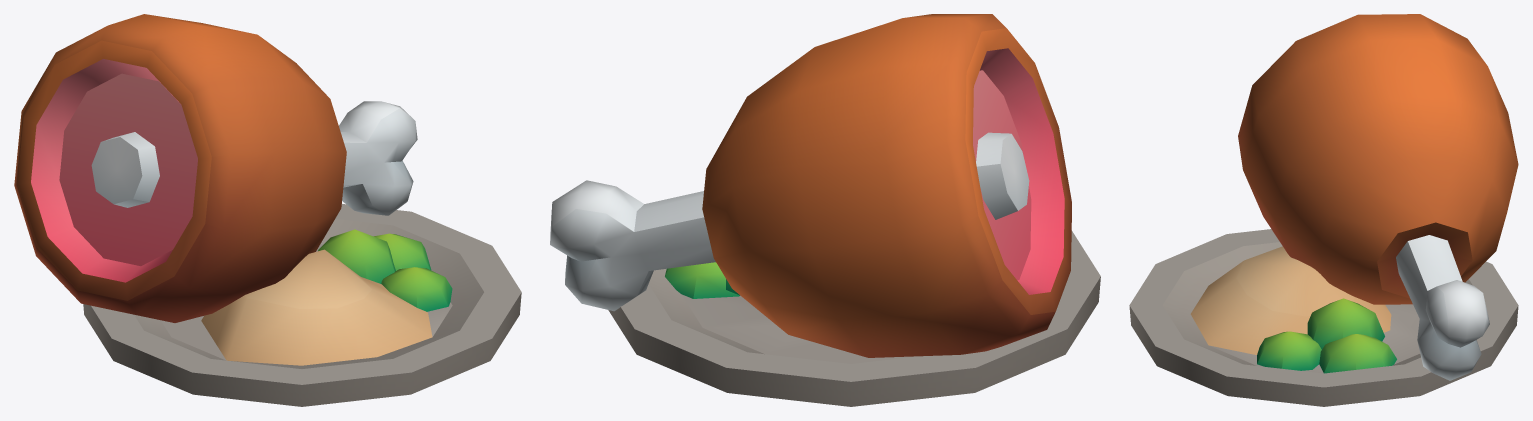
File: plate_food_a.gltf
3 views of the same model, side by side, from view 1: azimuth 30°, elevation 25°; view 2: azimuth 150°, elevation 25°; view 3: azimuth 270°, elevation 25° (orthographic). The views are drawn at different scales.
Parts seen in each view (by area): view 1: plate_food_A; view 2: plate_food_A; view 3: plate_food_A.
Boxes of the visible parts, bbox=[...] form: plate_food_A: bbox=[14, 14, 521, 406]; plate_food_A: bbox=[550, 14, 1100, 406]; plate_food_A: bbox=[1129, 14, 1518, 406].
Bounding box in the file's own units: 1.02 × 0.7875 × 0.9706.
Materials: 1 (1 with a texture image).
